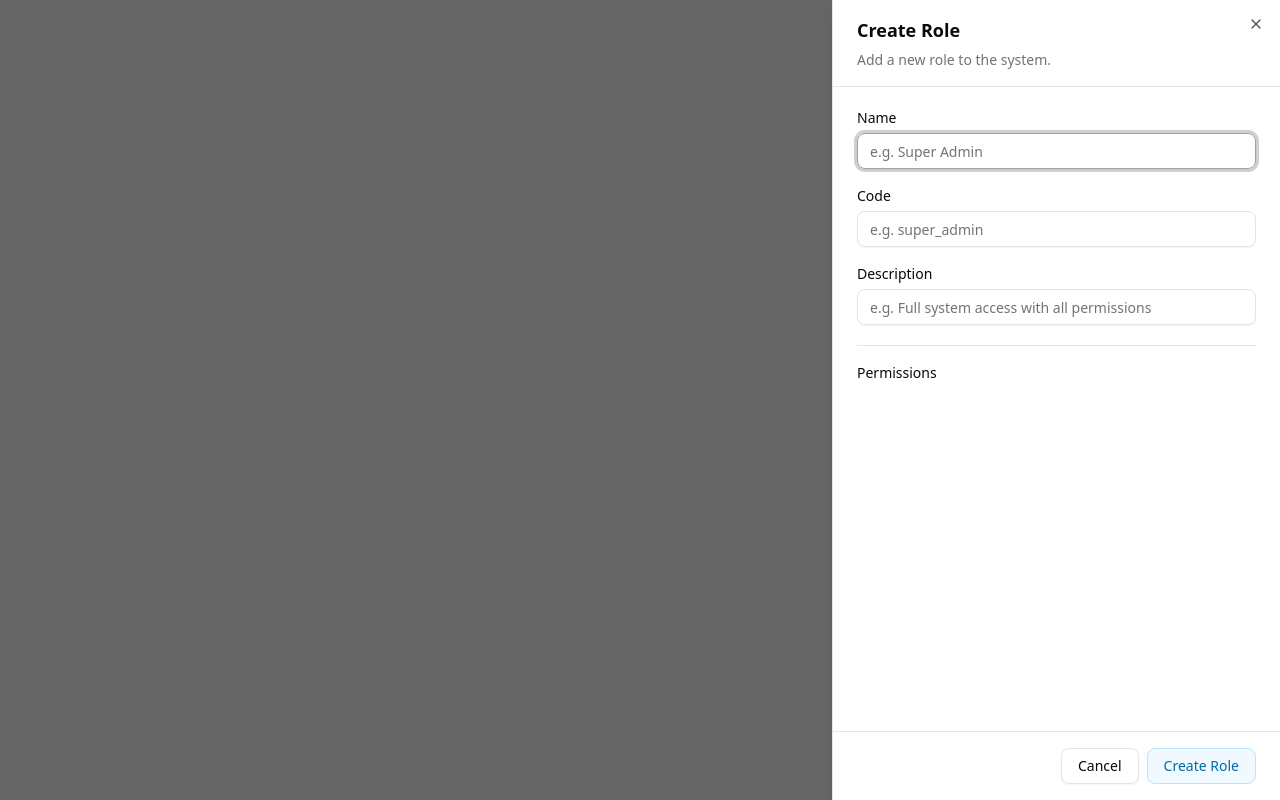
RoleDialog — create mode › uppercase code → "Use lowercase letters, digits…"
Type "Super Admin" into the field with placeholder "e.g. Super Admin". click: (1056, 151)
box: [857,133,1256,169]
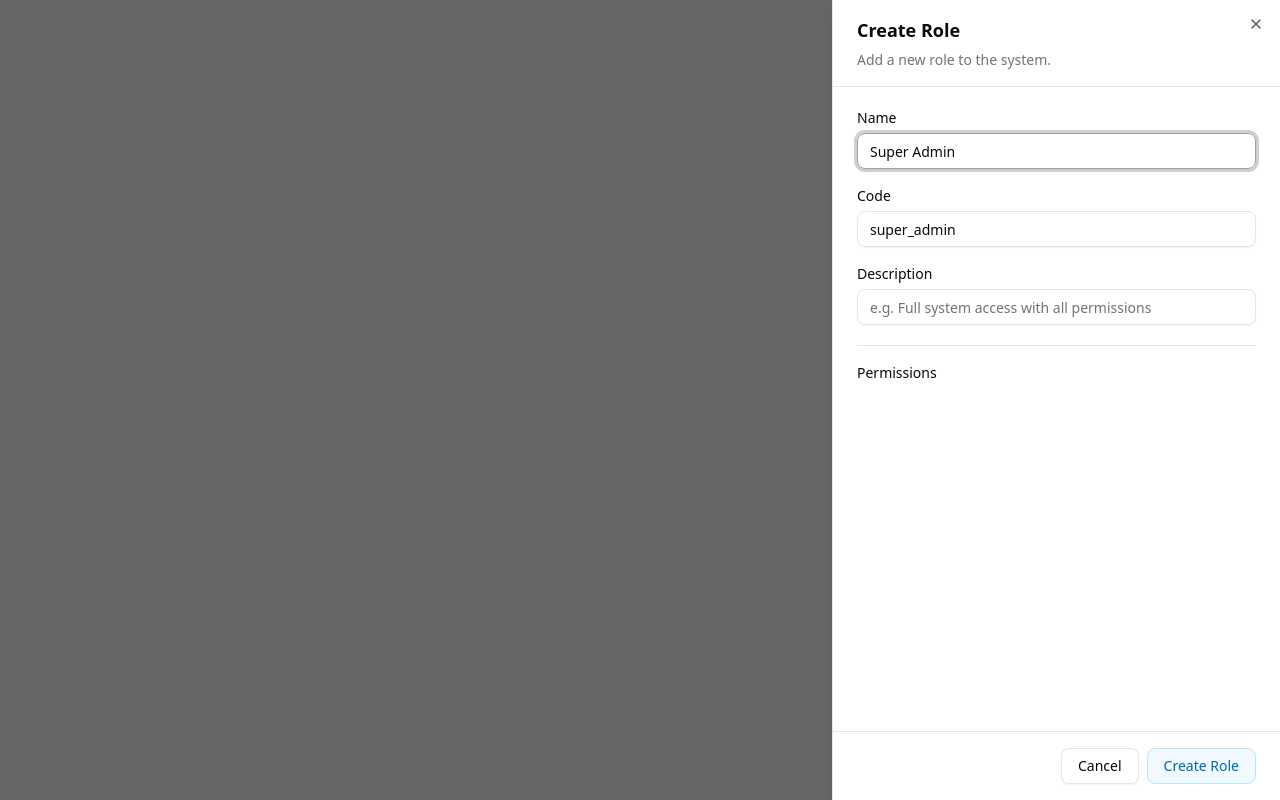
Replace the text in the field with placeholder "e.g. super_admin" with "BadRole". click: (1056, 229)
box: [857,211,1256,247]
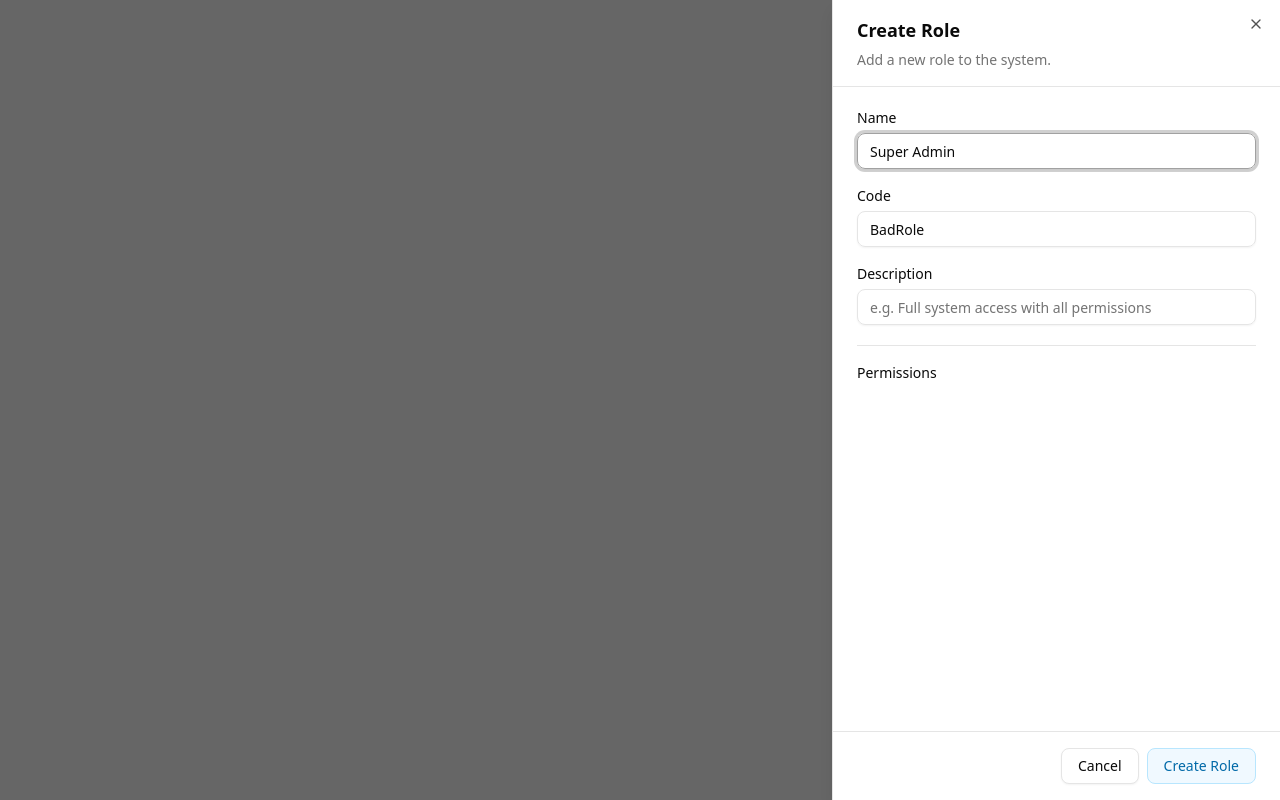
Click the button "Create Role". click: (1201, 766)
box: [1147,748,1256,784]
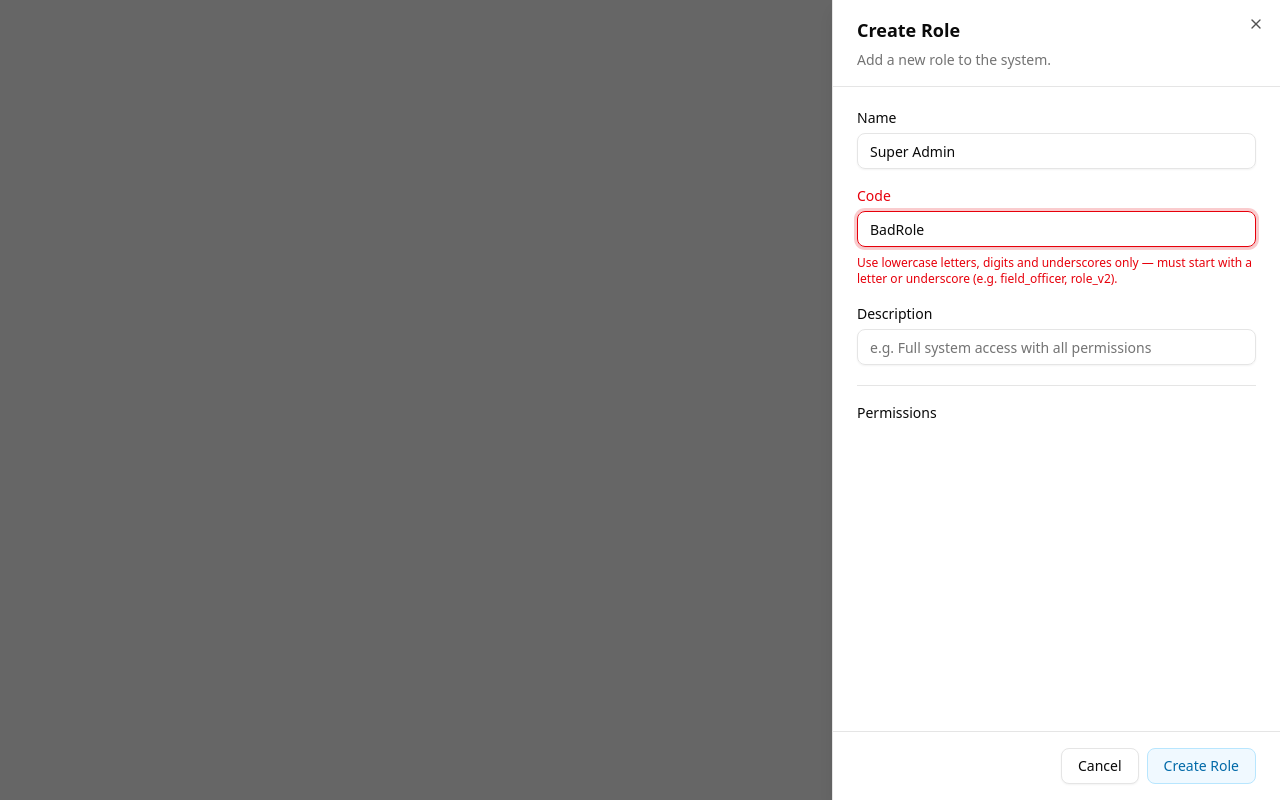
Now the text "Use lowercase letters, digits and underscores only" is shown, box [857,254,1252,287]
